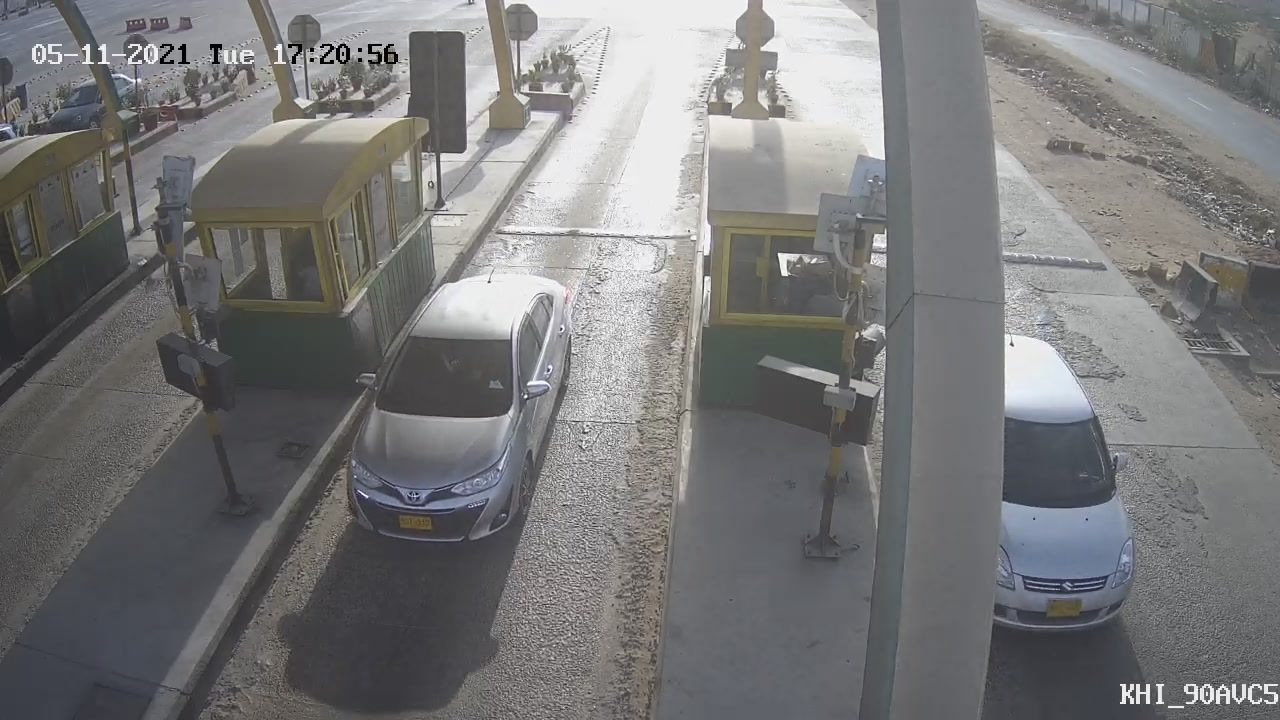F1: (316, 249, 599, 565)
